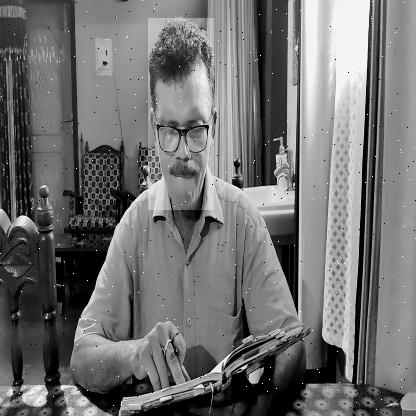Normal: (148, 18, 214, 210)
